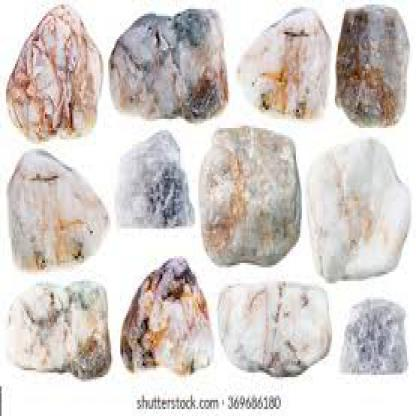Metamorphic_Marble: (0, 130, 113, 272), (308, 130, 408, 281), (3, 3, 107, 146), (196, 124, 300, 265), (216, 268, 332, 393), (5, 254, 108, 393), (114, 5, 228, 116), (102, 112, 195, 245), (122, 265, 214, 398), (236, 12, 329, 116), (335, 7, 411, 130), (340, 295, 414, 398)
